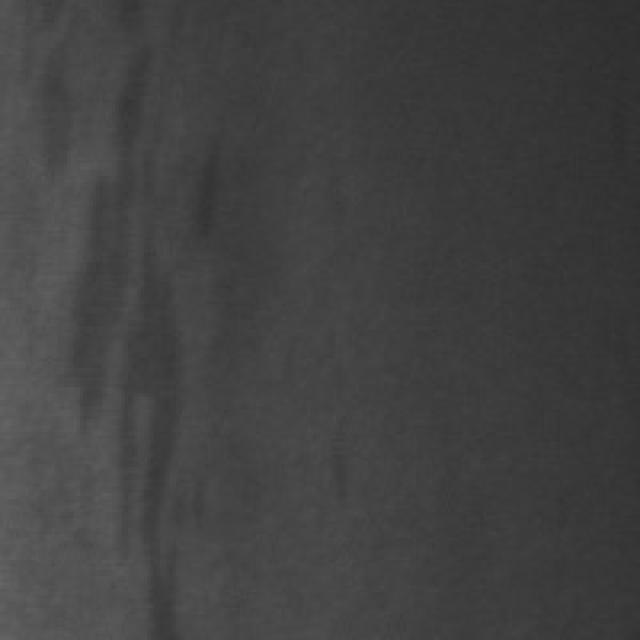inclusion: (51, 16, 205, 624)
